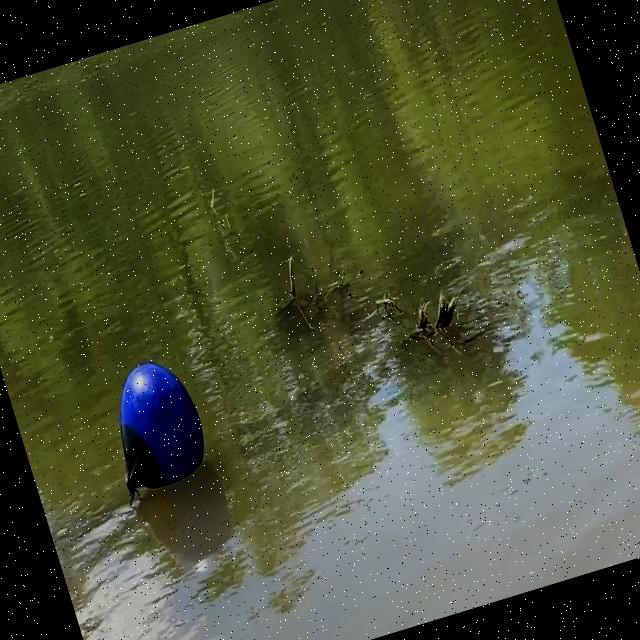buoy: (96, 352, 216, 498)
